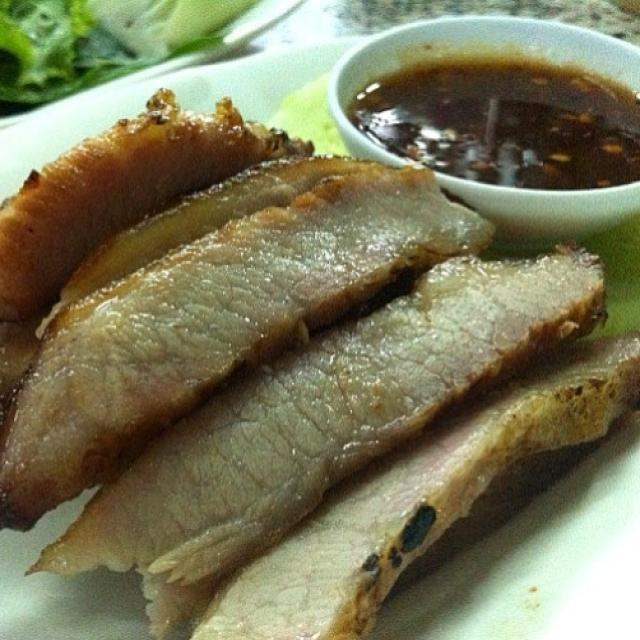猪肉菜式: (15, 64, 616, 618)
